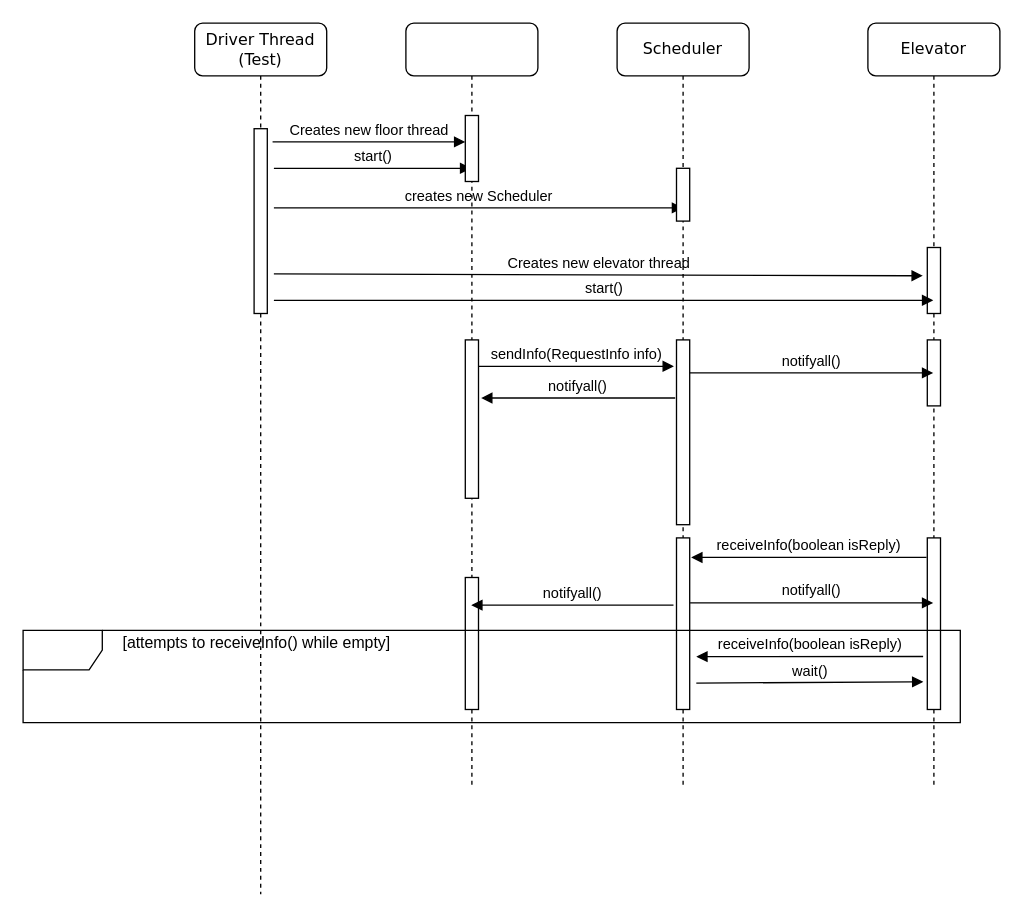
Some shapes in this 1023 by 917 pixel diagram are drawn without their labels. Here are the shapes that lost their labels. From the top down, the box of each, then its label:
(405, 22, 538, 789): Floor
(22, 629, 960, 723): Alt
